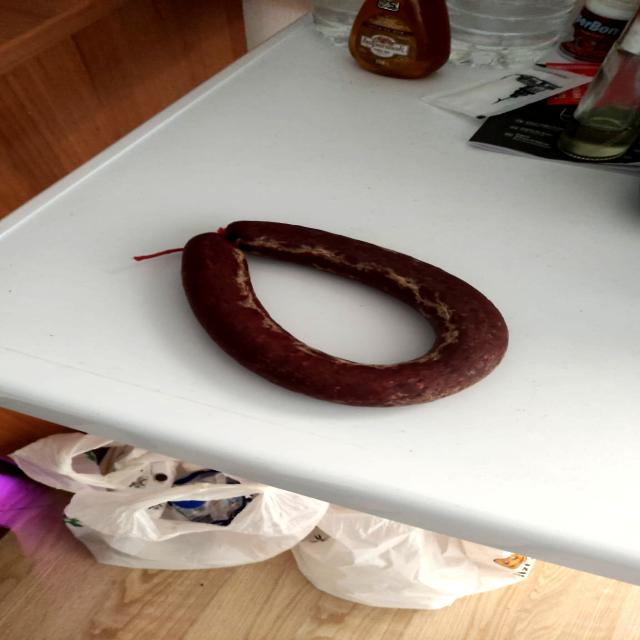sausage: (146, 202, 522, 413)
